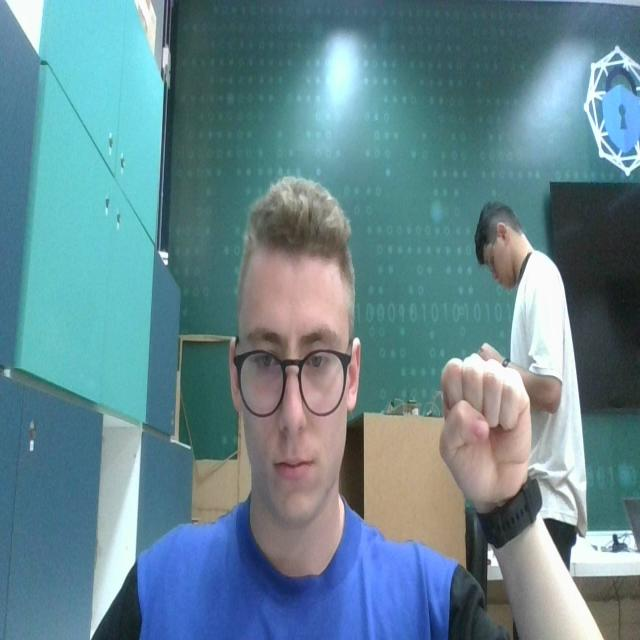S: (436, 348, 536, 506)
